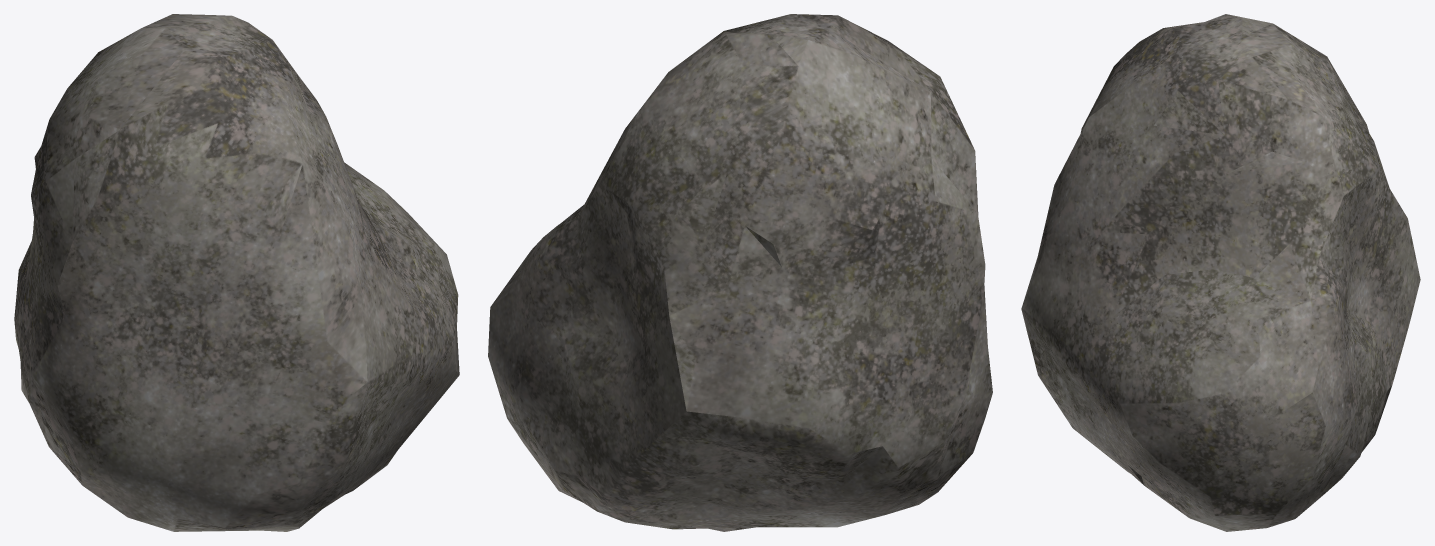
Rendered from Rock.fbx.
The picture shows the model from 3 angles, left to right: view 1: azimuth 30°, elevation 25°; view 2: azimuth 150°, elevation 25°; view 3: azimuth 270°, elevation 25°; orthographic projection. The views are drawn at different scales.
Visible parts, largest first — view 1: rock.006; view 2: rock.006; view 3: rock.006.
Part boxes in pixels (x1=…): rock.006: x1=14, y1=14, x2=459, y2=531; rock.006: x1=488, y1=14, x2=992, y2=531; rock.006: x1=1021, y1=14, x2=1420, y2=531.
Size of the model in its own units: 112 by 127 by 102.
